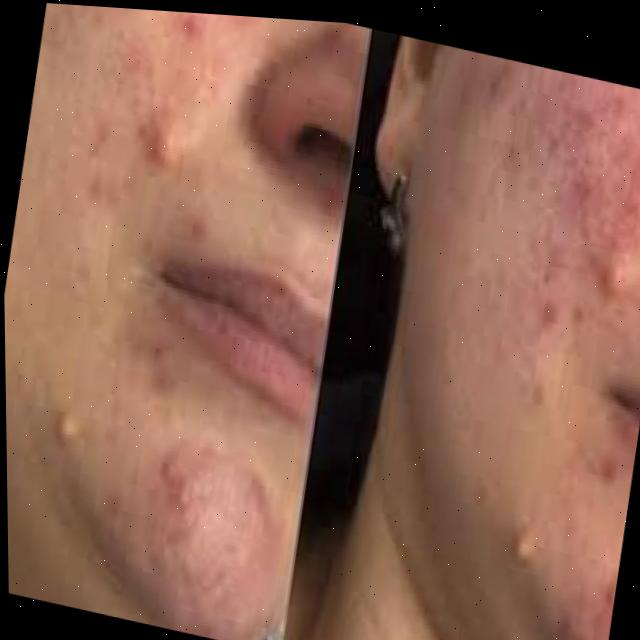Rosacea: (29, 399, 295, 640), (501, 92, 640, 341), (64, 4, 231, 207), (495, 426, 639, 640)
